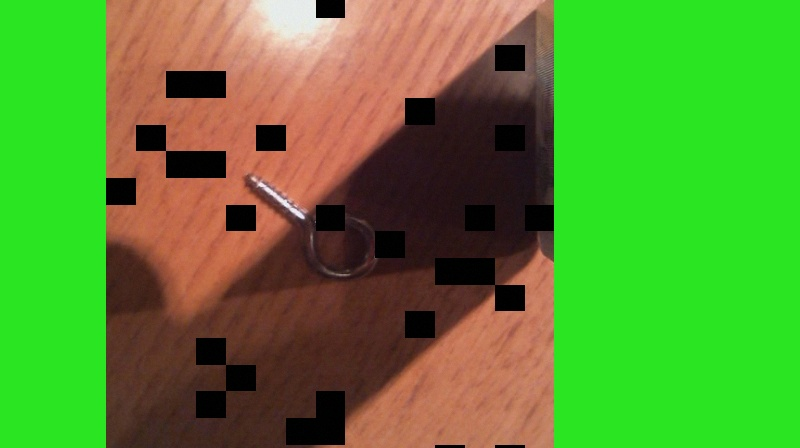O001: (241, 169, 382, 281)
